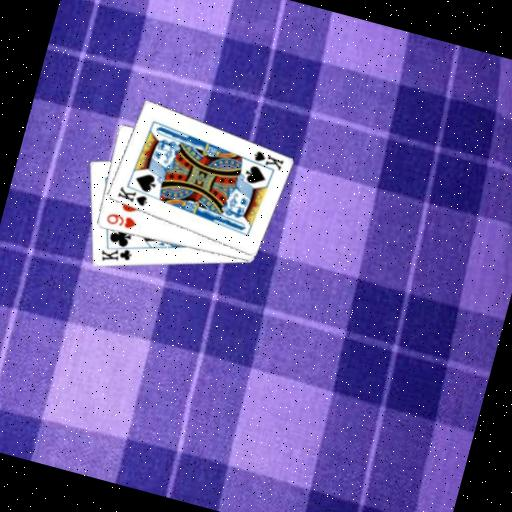9H: (102, 208, 139, 232)
KC: (95, 235, 136, 269)
KS: (244, 145, 286, 175), (112, 182, 151, 209)
